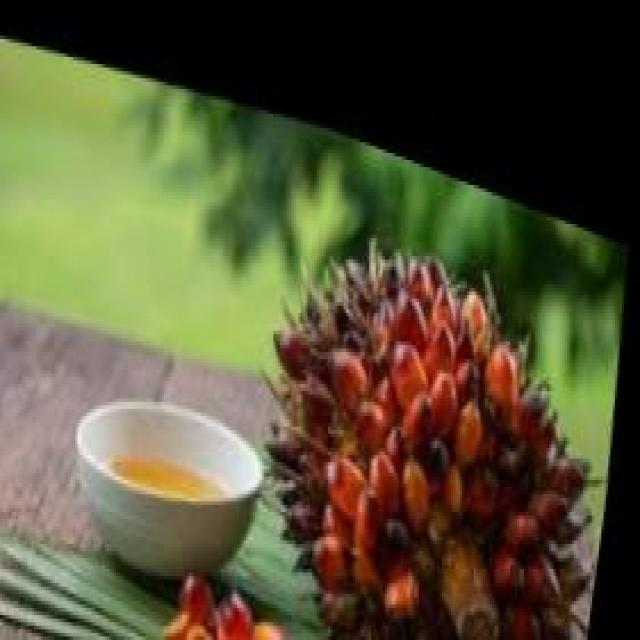Ripefruit: (242, 138, 634, 640)
